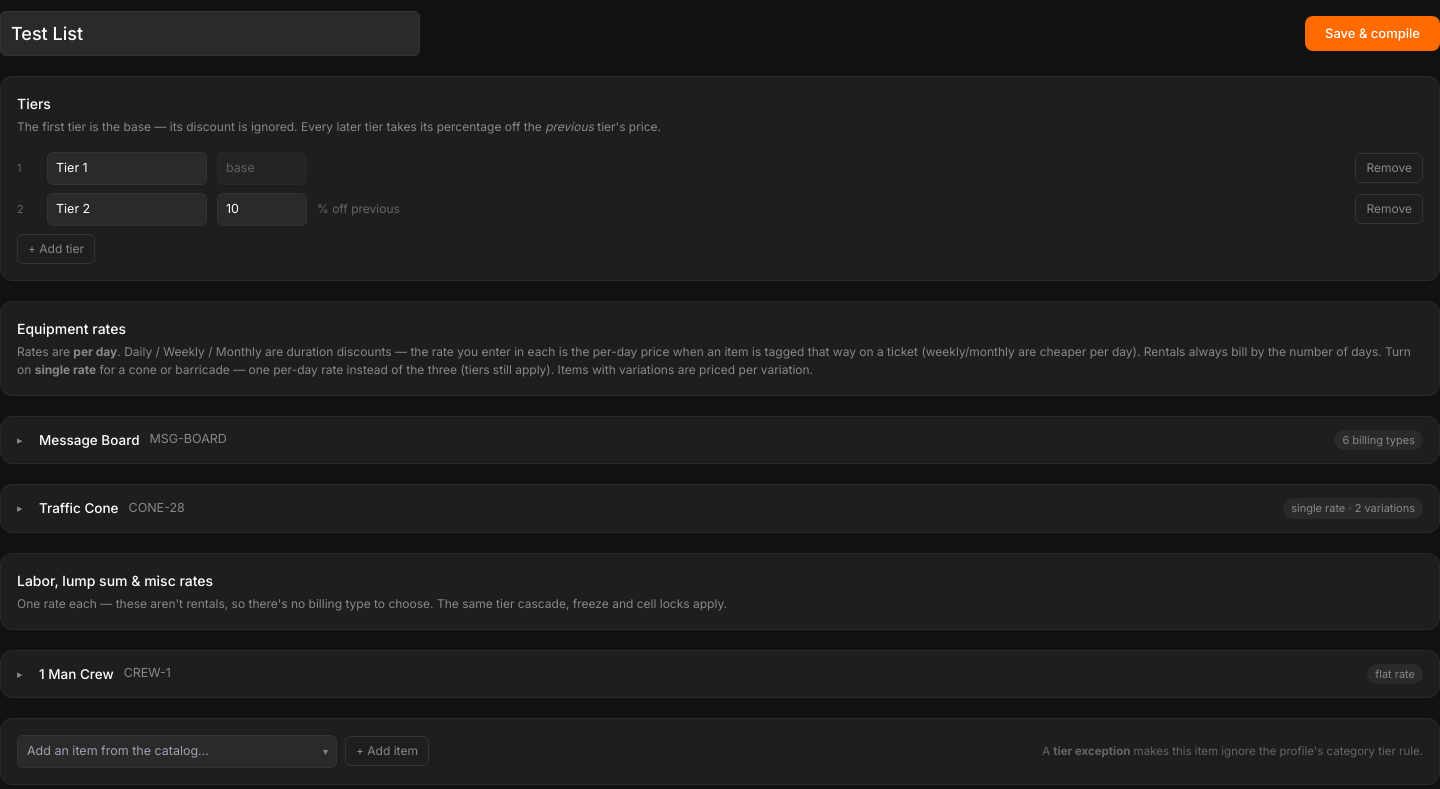
price-list editor — collapse + single-rate + per-variation grids › prices each variation on its own grid
The width and height of the screenshot is (1440, 789).
Step 1. Click the text "CONE-28" → (157,508), box [128,499,185,518]
(page scrolled)
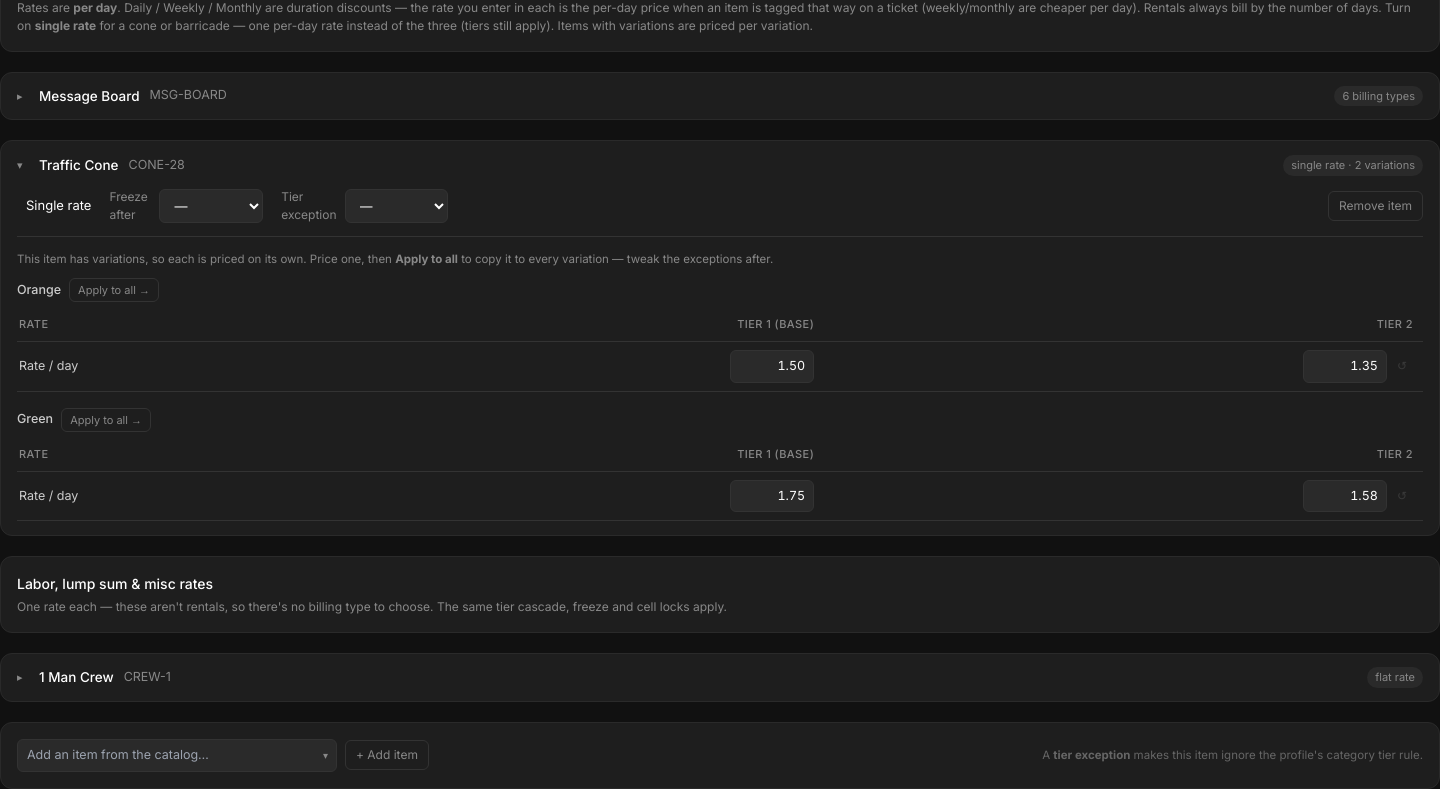
Result: the text "Orange" is shown at [17,281,61,299]
Result: the text "Green" is shown at [17,410,53,429]
Result: the field named "CONE-28 Orange rate base" holds "1.50" at [730,350,814,383]
